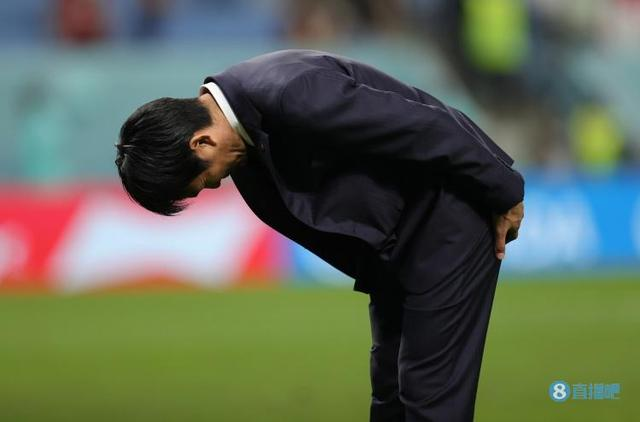bending: (106, 40, 531, 417)
